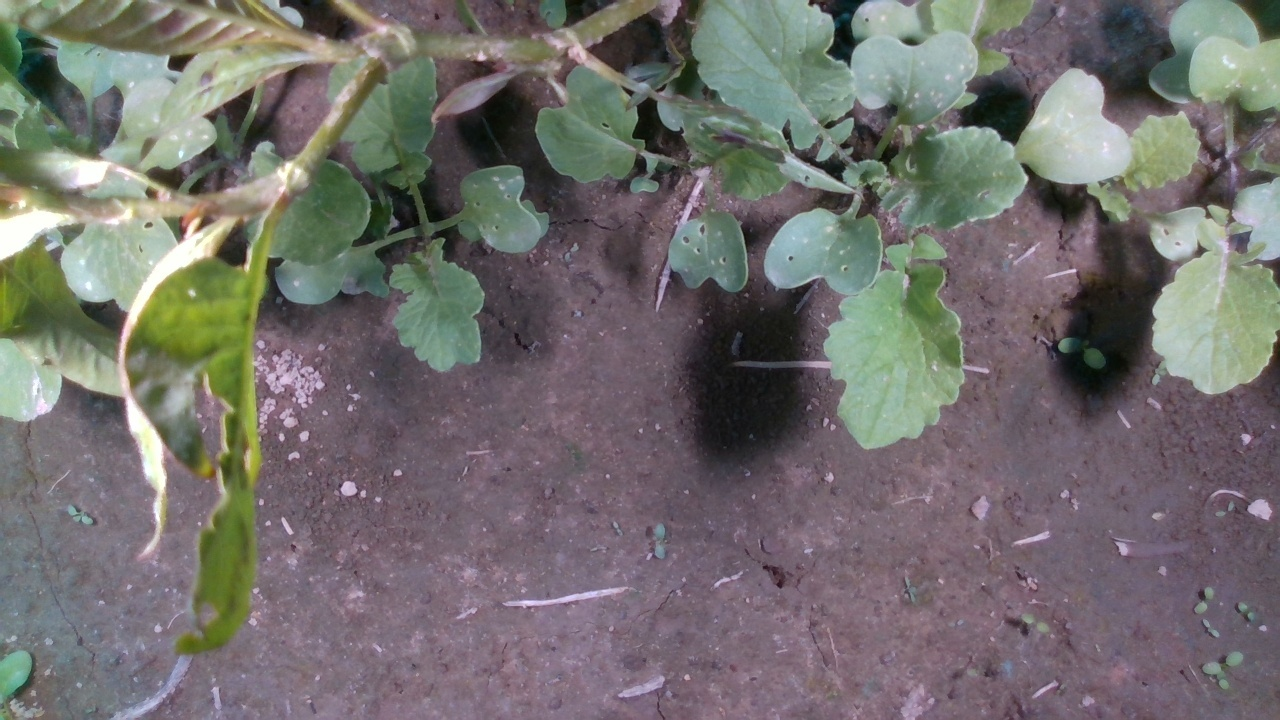weed: (1053, 334, 1109, 370), (648, 521, 672, 560), (62, 504, 97, 527), (1191, 586, 1216, 615), (1200, 617, 1223, 639)
